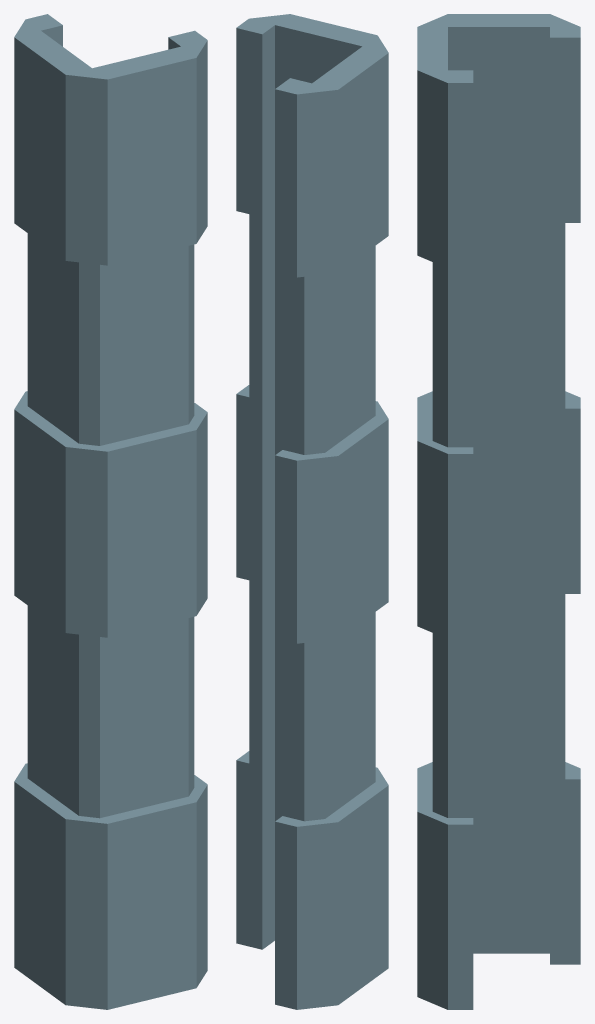
File: wallCornerDetail.fbx
3 views of the same model, side by side, from view 1: azimuth 30°, elevation 25°; view 2: azimuth 150°, elevation 25°; view 3: azimuth 270°, elevation 25° (orthographic).
Parts seen in each view (by area): view 1: wallCornerDetail; view 2: wallCornerDetail; view 3: wallCornerDetail.
Part boxes in pixels (x1,y1,x2,y2): wallCornerDetail: [14, 14, 207, 1009]; wallCornerDetail: [236, 14, 388, 1009]; wallCornerDetail: [417, 14, 580, 1009].
Bounding box in the file's own units: 1.6 × 10 × 1.6.
